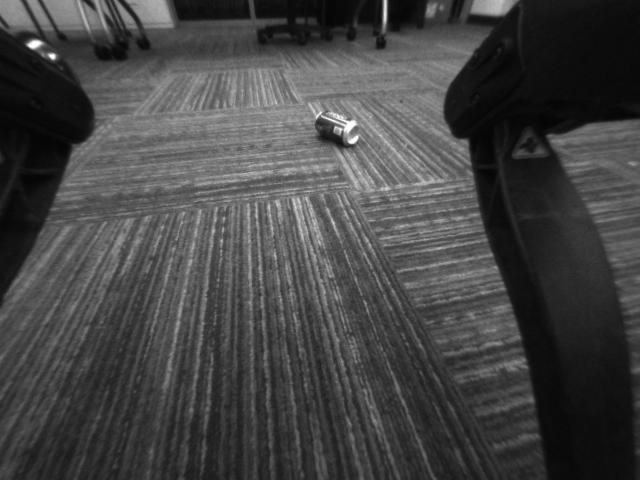can: (314, 106, 365, 148)
